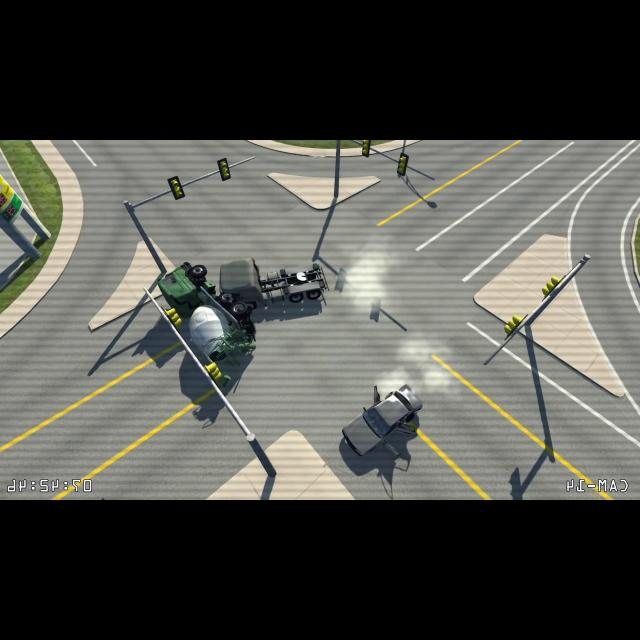accident: (160, 256, 329, 362)
